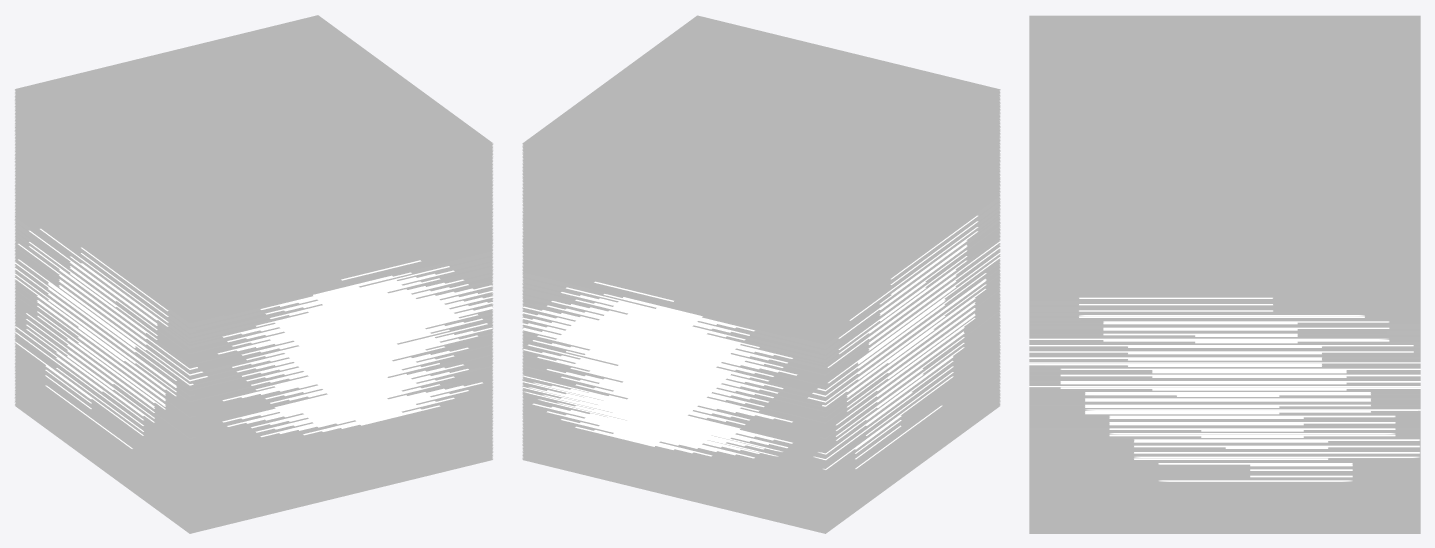
File: cloud.glb
3 views of the same model, side by side, from view 1: azimuth 30°, elevation 25°; view 2: azimuth 150°, elevation 25°; view 3: azimuth 270°, elevation 25° (orthographic). The views are drawn at different scales.
Visible parts, largest first — view 1: Object_4; view 2: Object_4; view 3: Object_4.
Part boxes in pixels (box(x1,y1,x2,y2)): Object_4: box(14, 15, 493, 533); Object_4: box(522, 15, 1000, 533); Object_4: box(1029, 15, 1420, 533).
Bounding box in the file's own units: 1 × 1 × 1.
3 materials, 3 textured.
